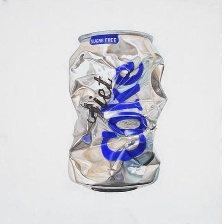can: (65, 28, 169, 192)
